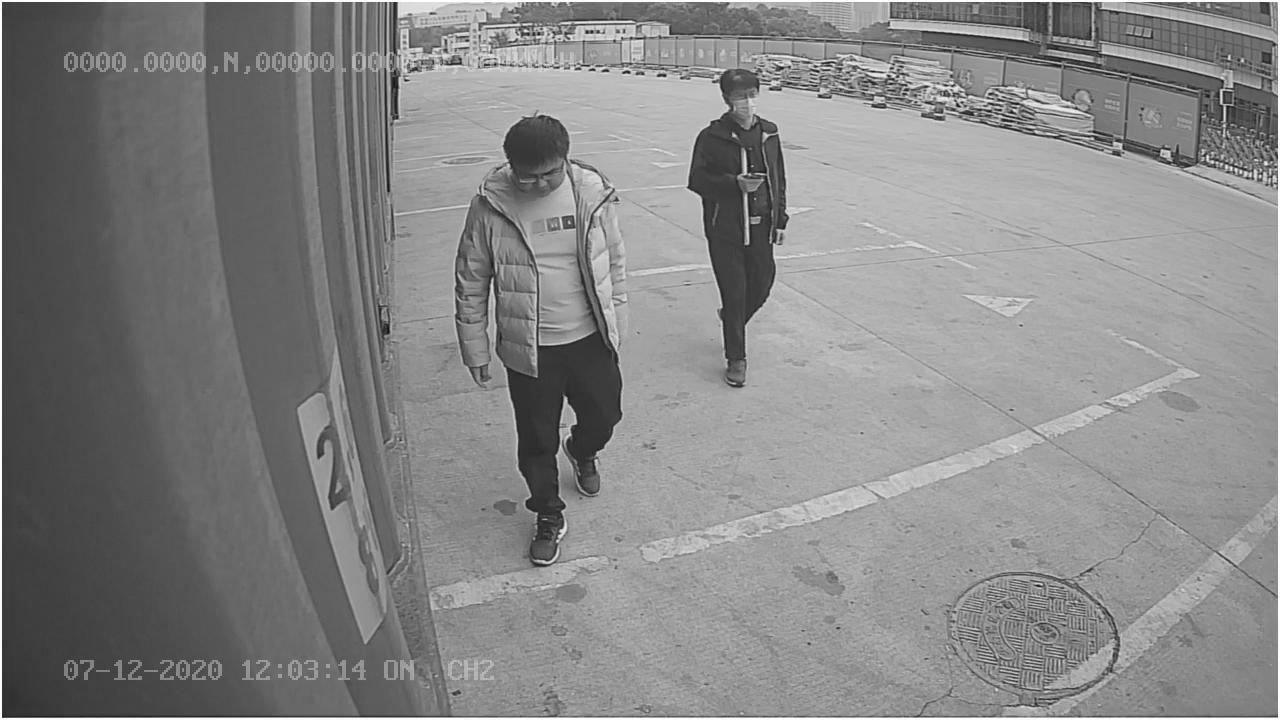person: (452, 107, 636, 572), (685, 65, 794, 386)
